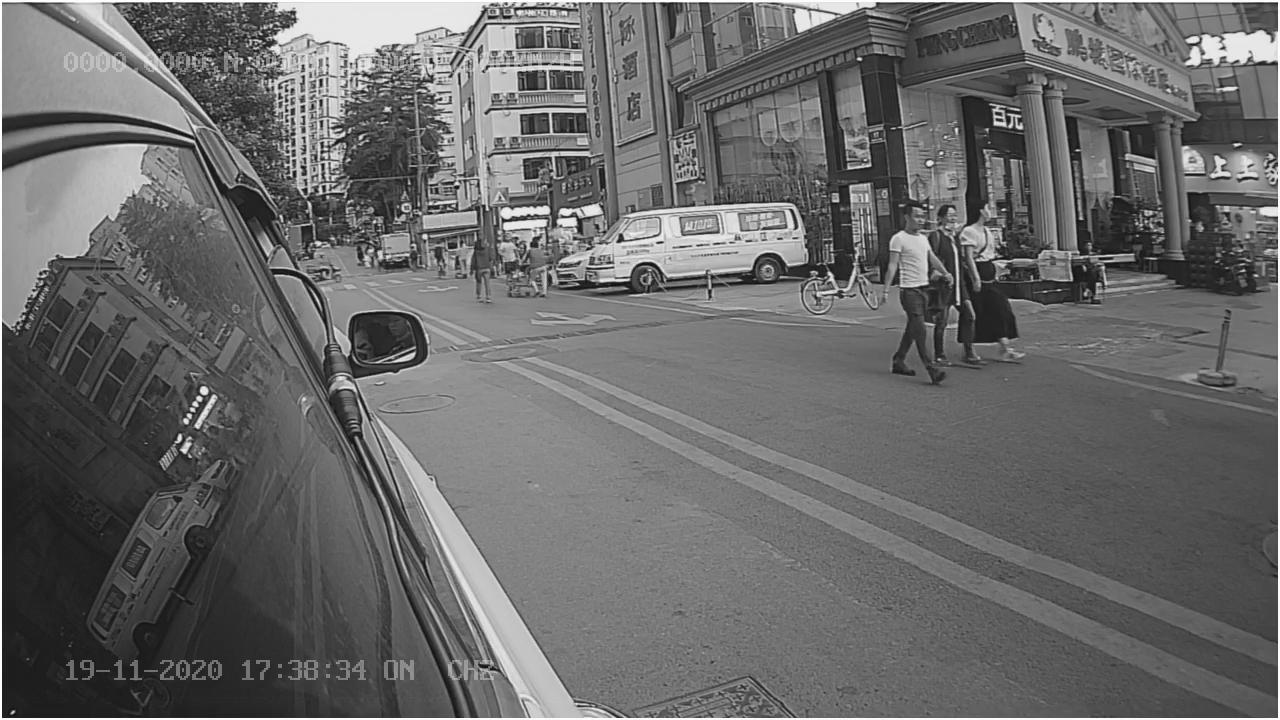person: (873, 201, 962, 385)
